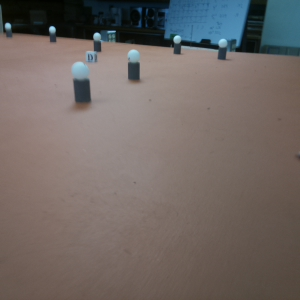obstacle: (72, 60, 92, 101), (127, 49, 140, 81), (217, 38, 228, 61), (92, 31, 102, 53), (48, 25, 57, 43), (173, 35, 181, 55), (4, 22, 13, 37)
